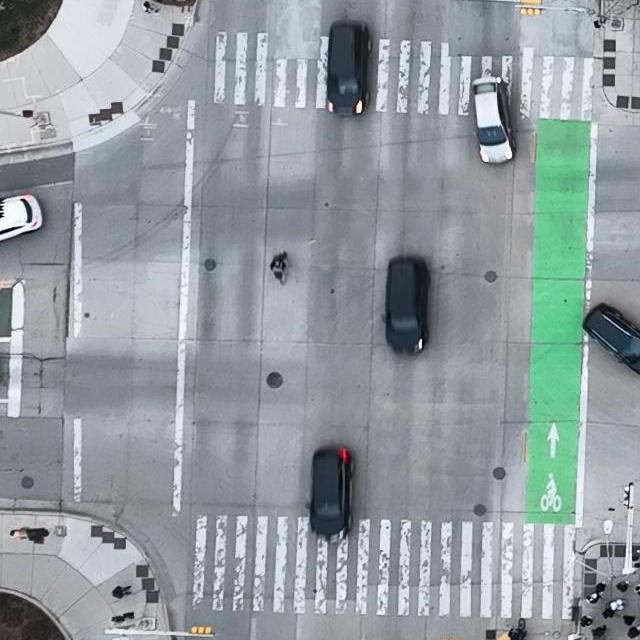car: (326, 20, 373, 117), (307, 445, 354, 541), (383, 256, 429, 354), (582, 301, 640, 376), (473, 77, 517, 166), (0, 194, 44, 242)
